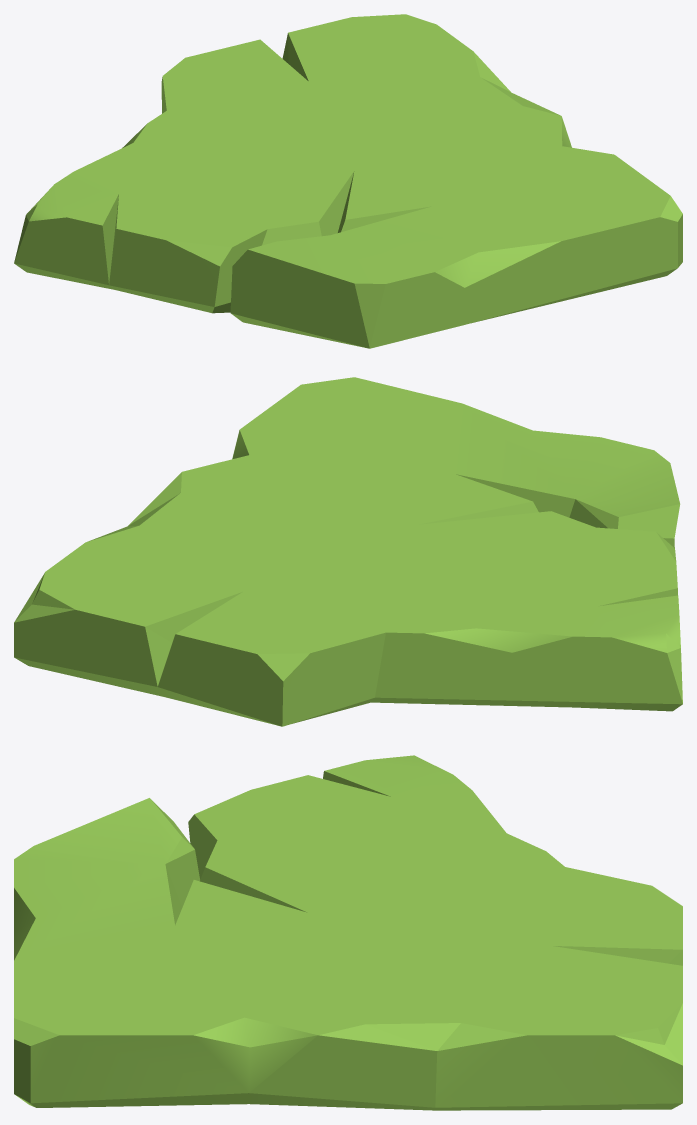
The model's file is mesh_ConcreteSlab1_v2.fbx.
3 renders of one model, top to bottom at view 1: azimuth 30°, elevation 25°; view 2: azimuth 150°, elevation 25°; view 3: azimuth 270°, elevation 25°, orthographic. The views are drawn at different scales.
Parts seen in each view (by area): view 1: mesh_ConcreteSlab1_v2_0; view 2: mesh_ConcreteSlab1_v2_0; view 3: mesh_ConcreteSlab1_v2_0.
Part boxes in pixels (left/top/right/bottom): mesh_ConcreteSlab1_v2_0: left=14, top=14, right=682, bottom=348; mesh_ConcreteSlab1_v2_0: left=14, top=377, right=682, bottom=726; mesh_ConcreteSlab1_v2_0: left=14, top=755, right=682, bottom=1110.
Size of the model in its own units: 155 by 25.39 by 149.
